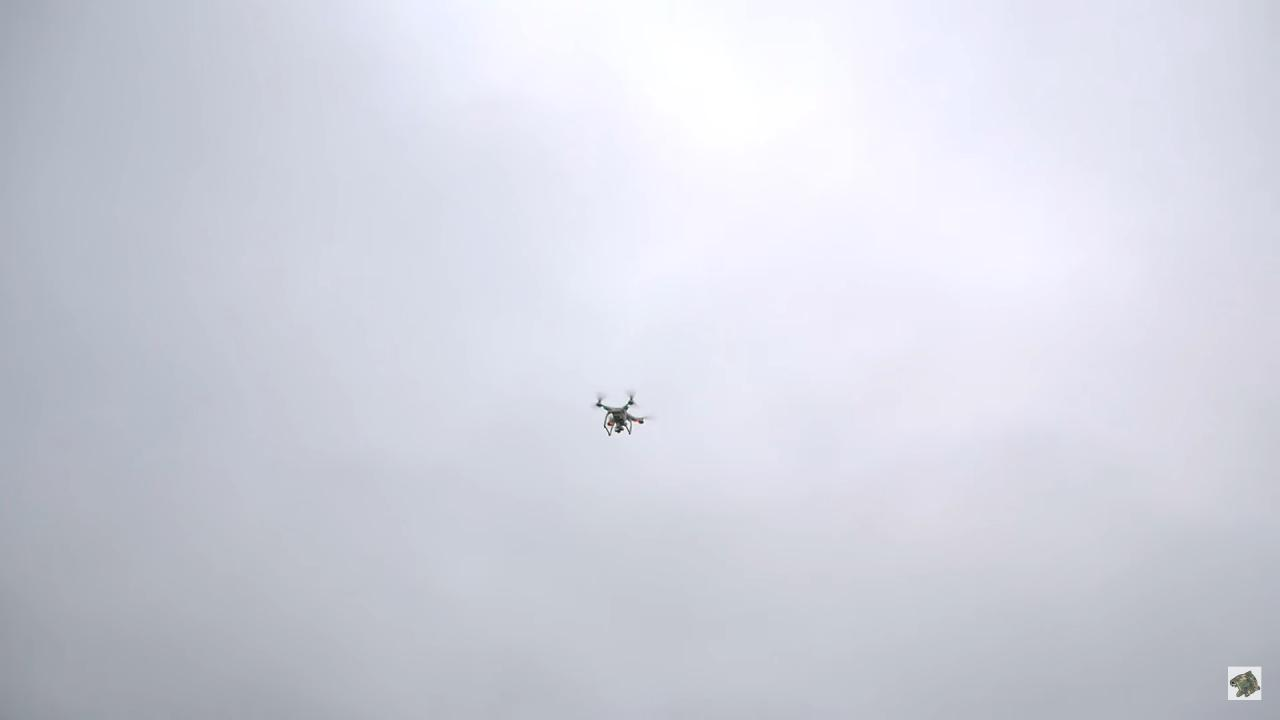Drone: (581, 380, 660, 448)
